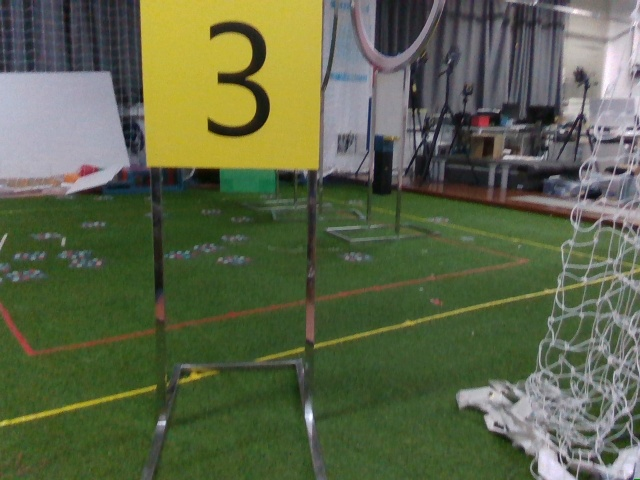target: (146, 1, 321, 171)
